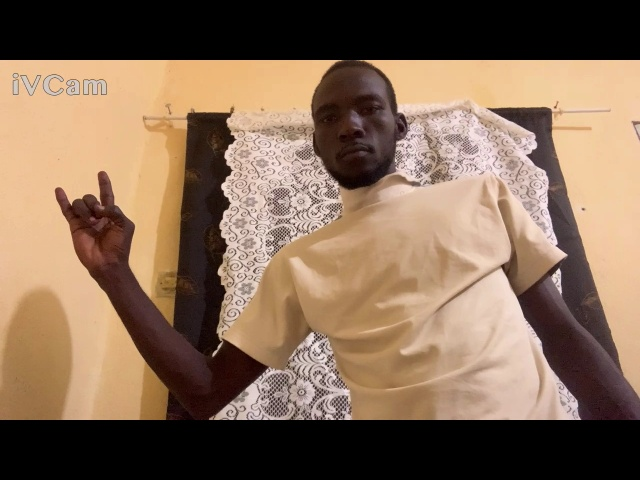je t'aime: (49, 164, 148, 288)
